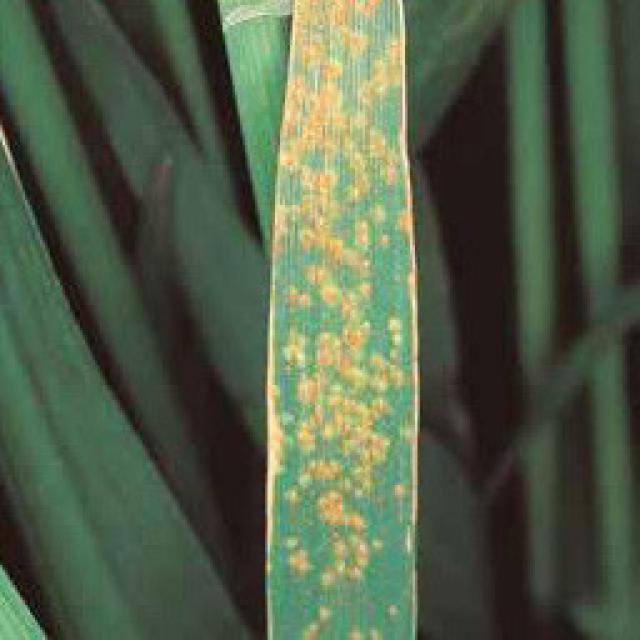wheat-yellowrust: (265, 0, 420, 640)
